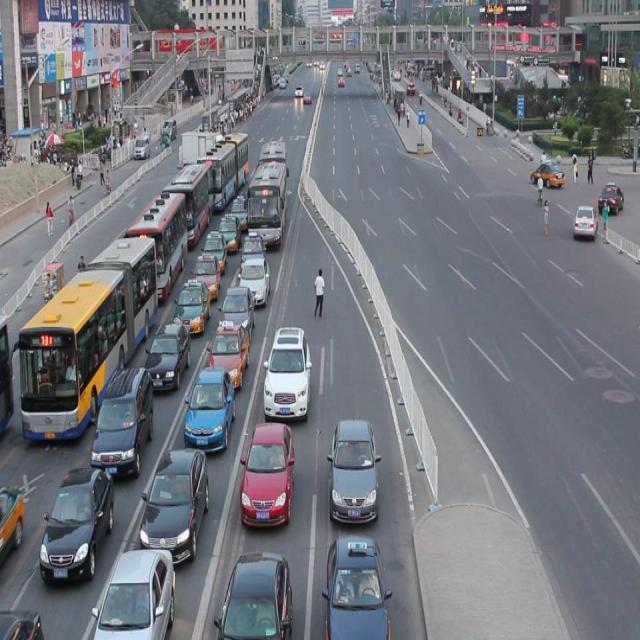bus: (181, 129, 226, 179)
car: (39, 466, 115, 582), (91, 546, 175, 640), (141, 446, 208, 561), (90, 366, 154, 477), (322, 538, 391, 640), (217, 550, 292, 640), (239, 419, 294, 528), (328, 418, 380, 518), (263, 323, 311, 418), (184, 364, 235, 451), (145, 320, 190, 391), (207, 318, 250, 391), (174, 276, 212, 336), (216, 285, 255, 340), (1, 482, 24, 560), (0, 605, 45, 640), (238, 256, 269, 305), (191, 254, 222, 301), (201, 228, 227, 272), (239, 231, 266, 273), (530, 159, 564, 191), (216, 211, 240, 250), (596, 179, 622, 214), (571, 204, 596, 237), (228, 196, 250, 231)
van: (1, 236, 156, 442), (126, 194, 188, 298), (162, 163, 215, 247), (198, 133, 249, 213), (244, 161, 289, 247), (256, 140, 289, 195)
